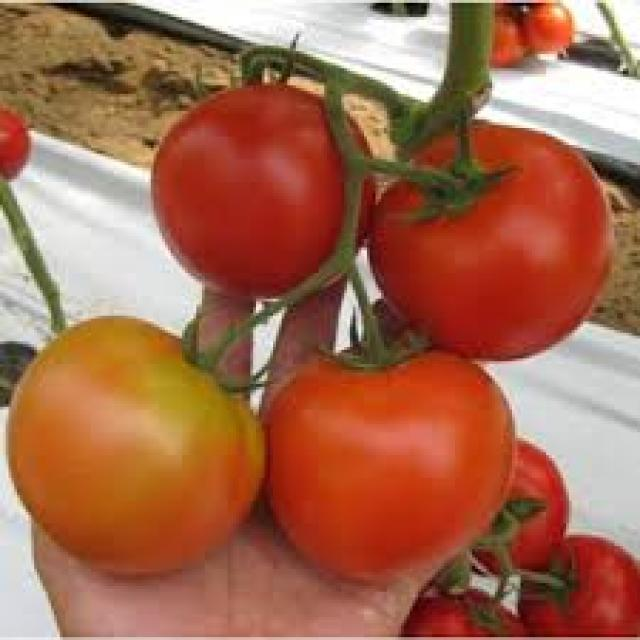Organik: (0, 79, 613, 588)
